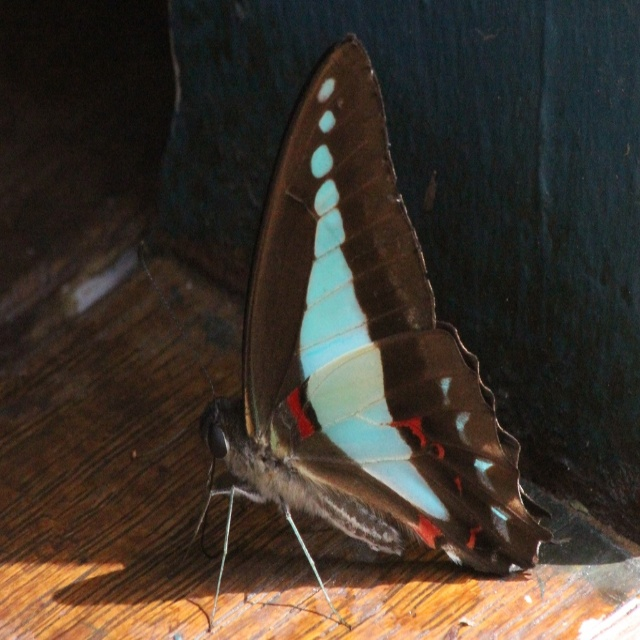Butterfly: (189, 33, 575, 624)
